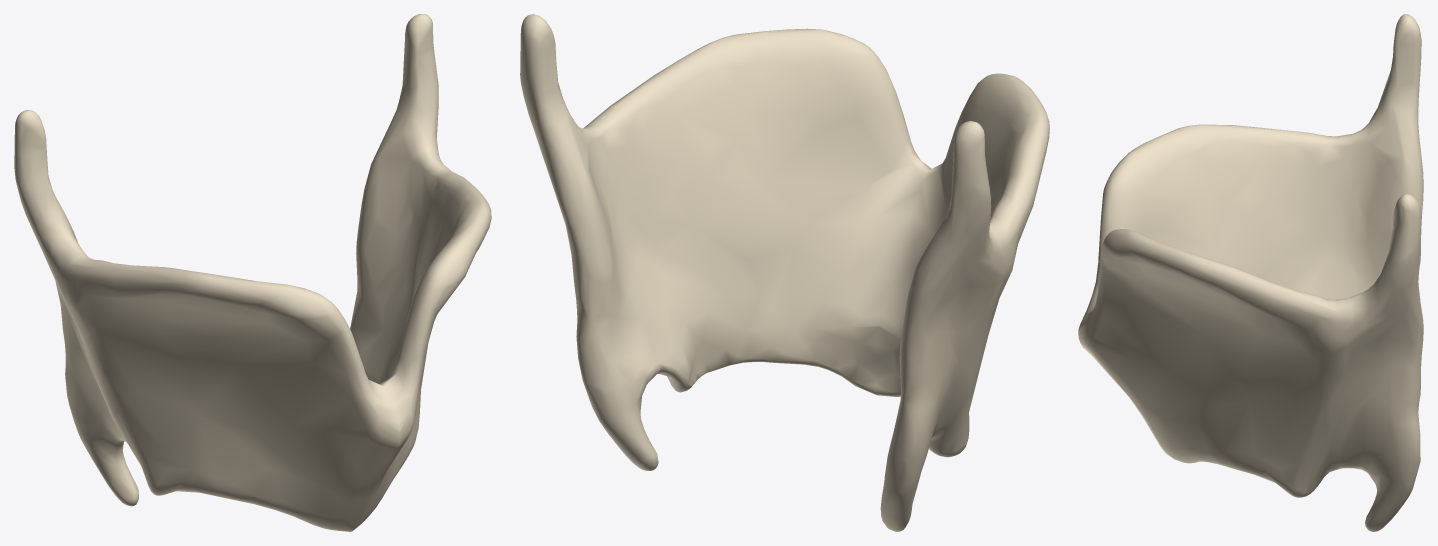
File: thyroid-cartilage.glb
The picture shows the model from 3 angles, left to right: view 1: azimuth 30°, elevation 25°; view 2: azimuth 150°, elevation 25°; view 3: azimuth 270°, elevation 25°; orthographic projection. The views are drawn at different scales.
Visible parts, largest first — view 1: Thyroid cartilage; view 2: Thyroid cartilage; view 3: Thyroid cartilage.
Boxes of the visible parts, x1,y1,x2,y2 form: Thyroid cartilage: (14,14,491,531); Thyroid cartilage: (520,14,1049,531); Thyroid cartilage: (1078,14,1423,531).
Size of the model in its own units: 0.0412 by 0.0378 by 0.0315.
